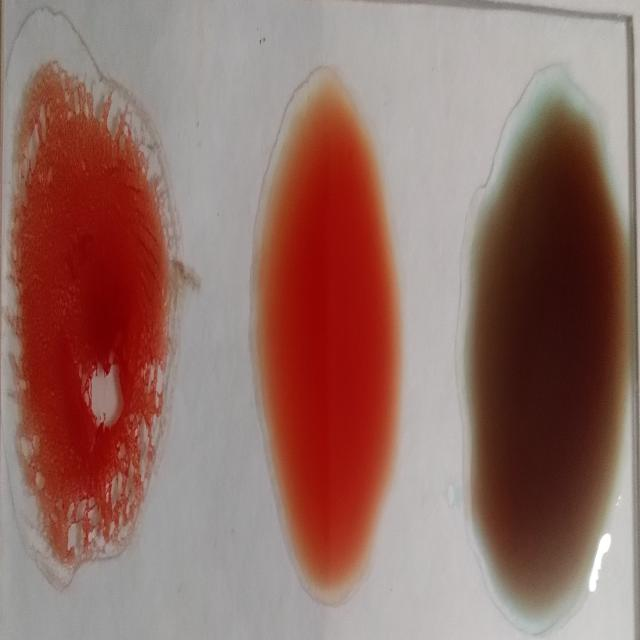D: (9, 40, 174, 589)
